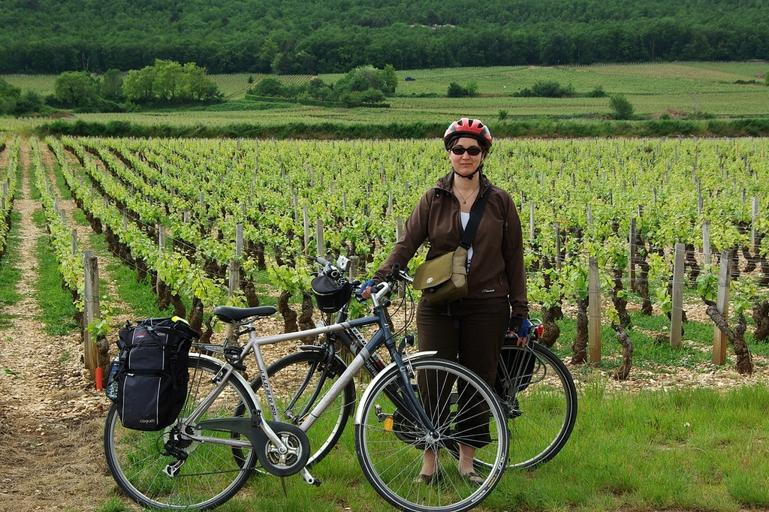non-vehicle: (101, 283, 507, 510), (230, 251, 578, 477)
